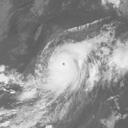cyclone: (48, 44, 84, 89)
